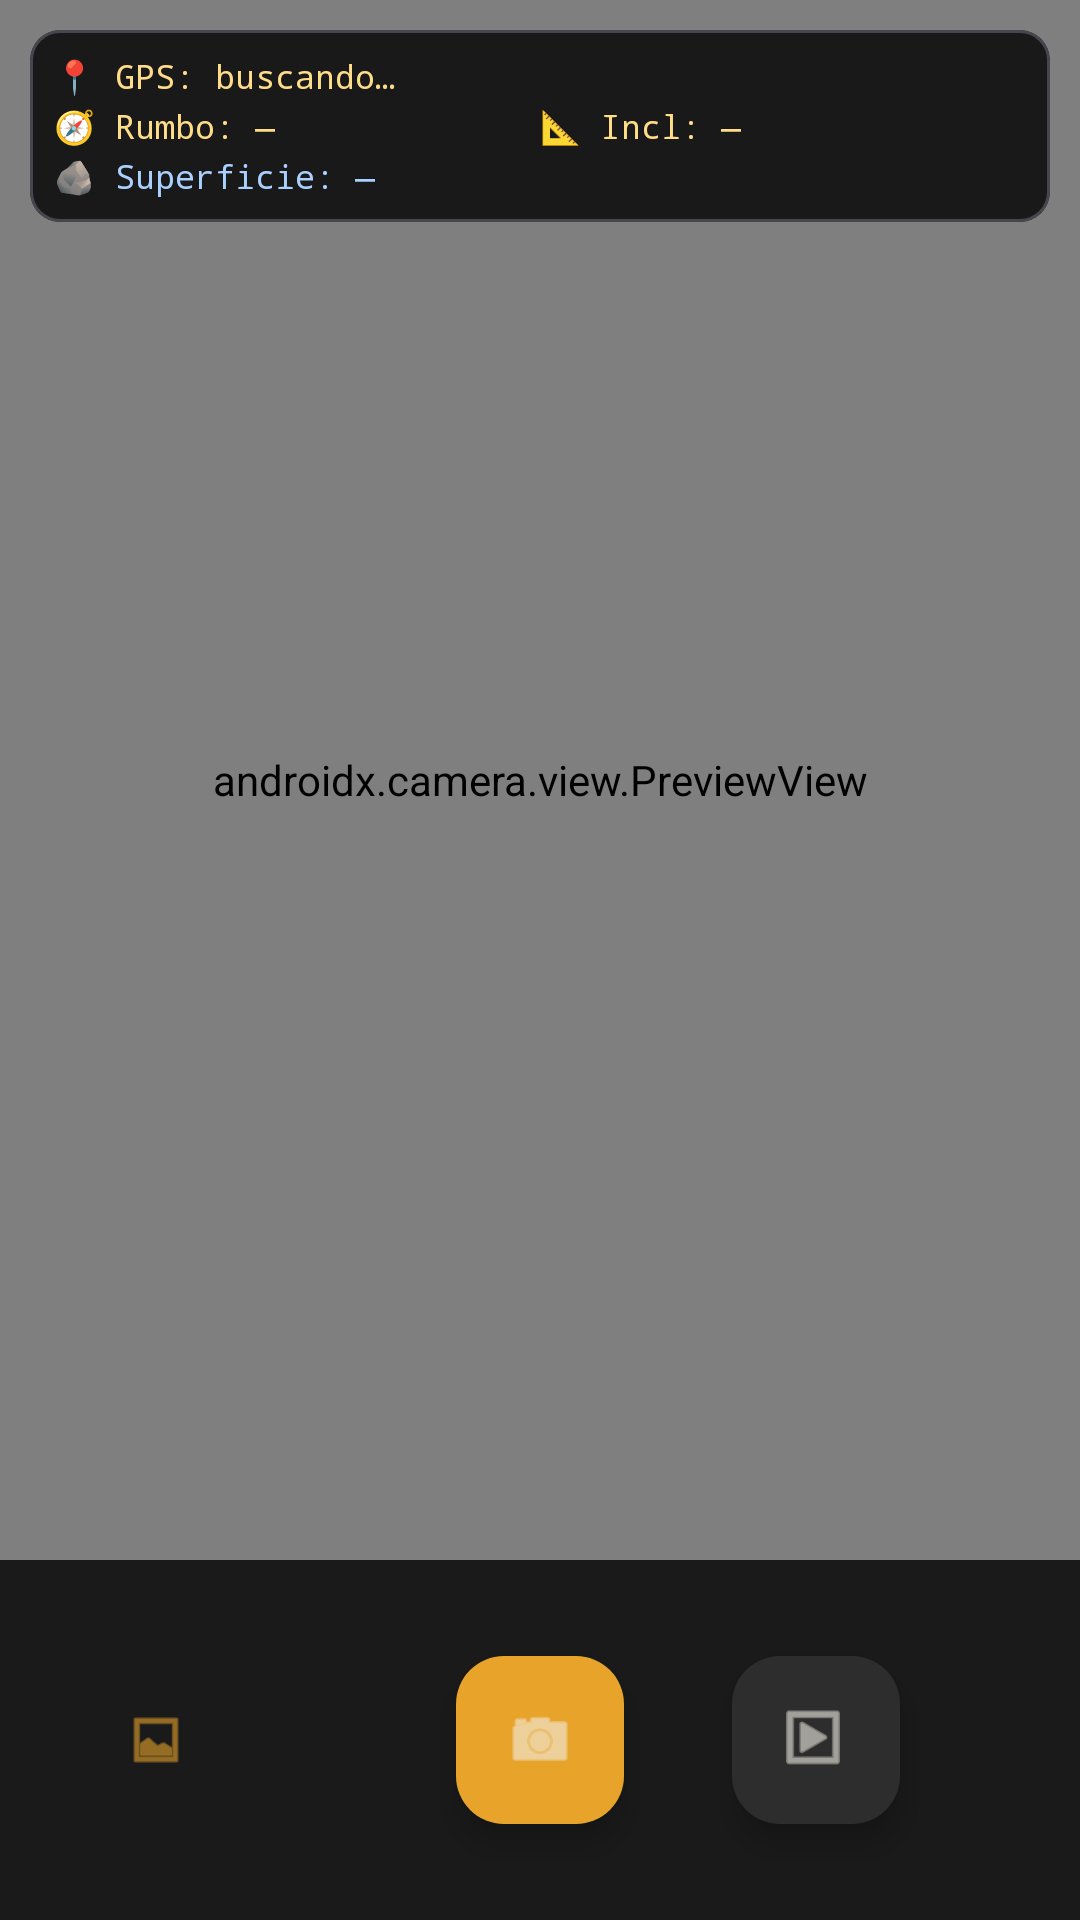

Point at icon controls on the screen. Image size 1080 × 1920, points as (x=x, y=y).
gallery: (x=156, y=1740)
